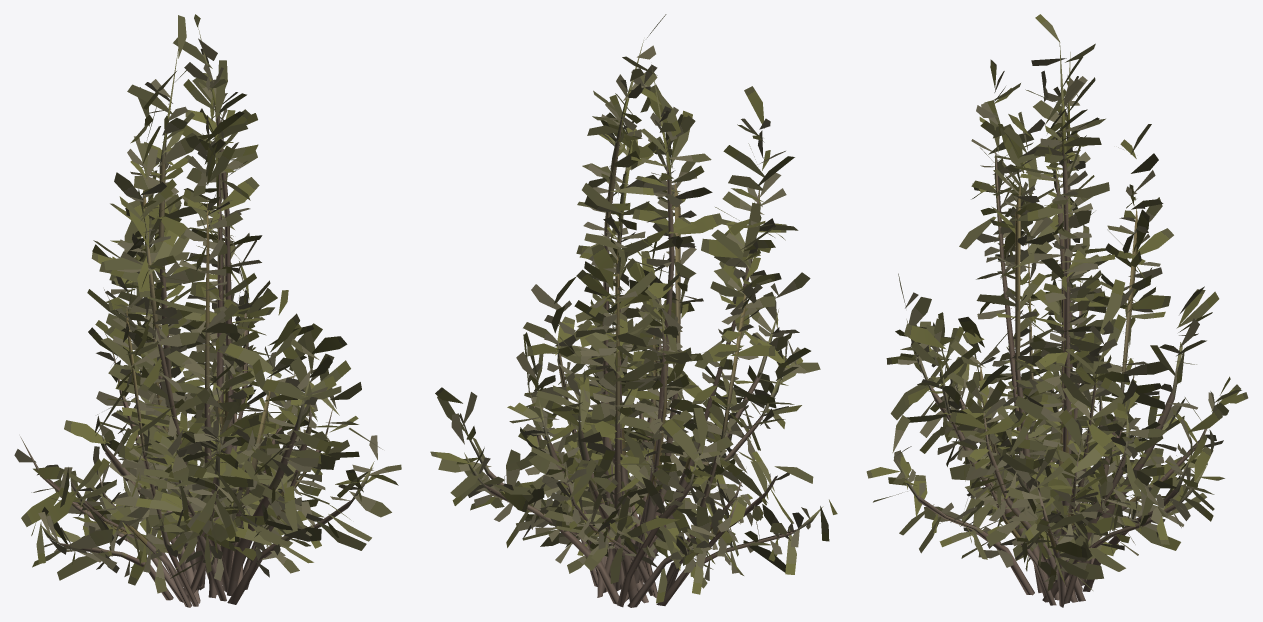
The model's file is ph_succulent_2.glb.
3 renders of one model, left to right at view 1: azimuth 30°, elevation 25°; view 2: azimuth 150°, elevation 25°; view 3: azimuth 270°, elevation 25°, orthographic. The views are drawn at different scales.
Parts seen in each view (by area): view 1: ph_succulent_2_lod1; view 2: ph_succulent_2_lod1; view 3: ph_succulent_2_lod1.
Part boxes in pixels (x1,y1,x2,y2): ph_succulent_2_lod1: (14, 14, 401, 607); ph_succulent_2_lod1: (430, 14, 837, 607); ph_succulent_2_lod1: (866, 14, 1248, 607).
Size of the model in its own units: 1.01 by 1.72 by 1.05.
Materials: 2 (2 with a texture image).
